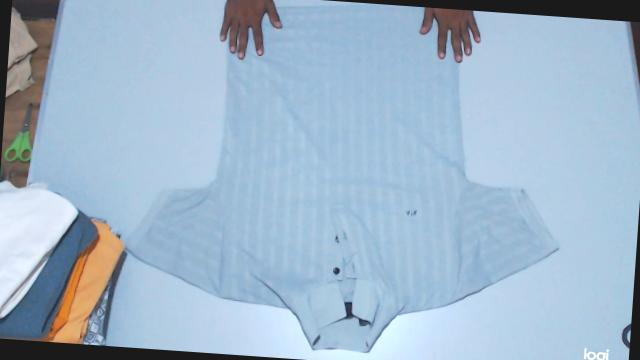new-garment: (129, 5, 557, 351)
